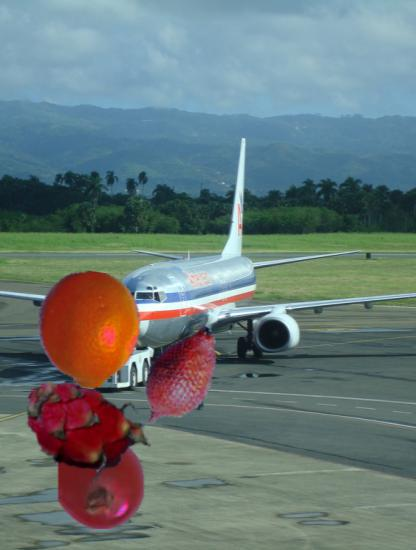Pitahaya: (19, 360, 153, 494)
Redcurrant: (55, 437, 148, 530)
Salak: (123, 320, 237, 434)
Tangelo: (30, 271, 148, 389)
